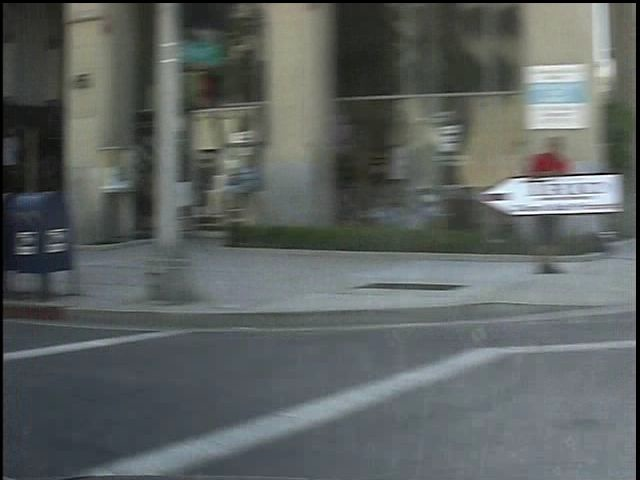person: (510, 126, 554, 282)
